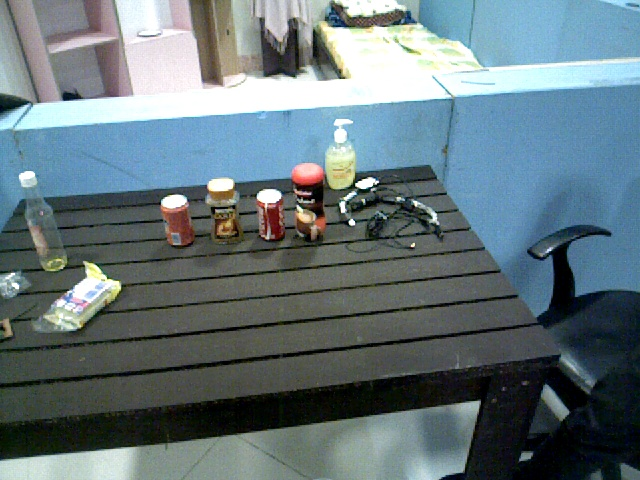coca: (258, 189, 285, 242)
coffee: (206, 180, 245, 246)
cream: (293, 163, 325, 243)
fanta: (161, 196, 194, 248)
